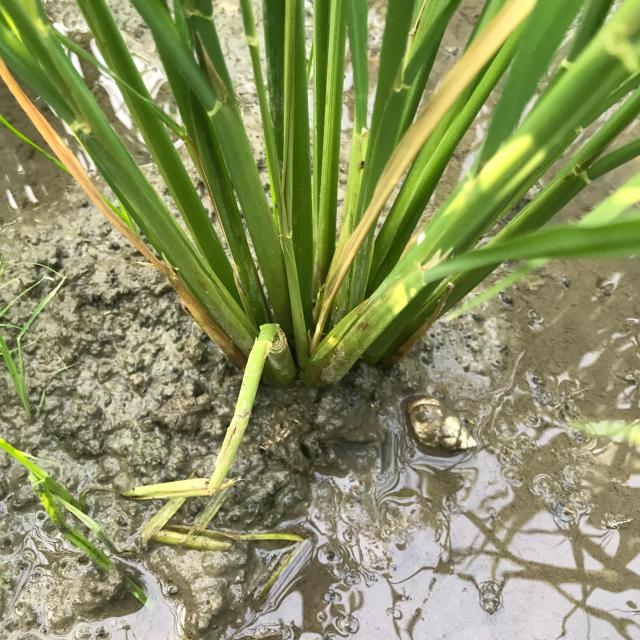rice bug -hama padi-: (402, 393, 478, 455)
